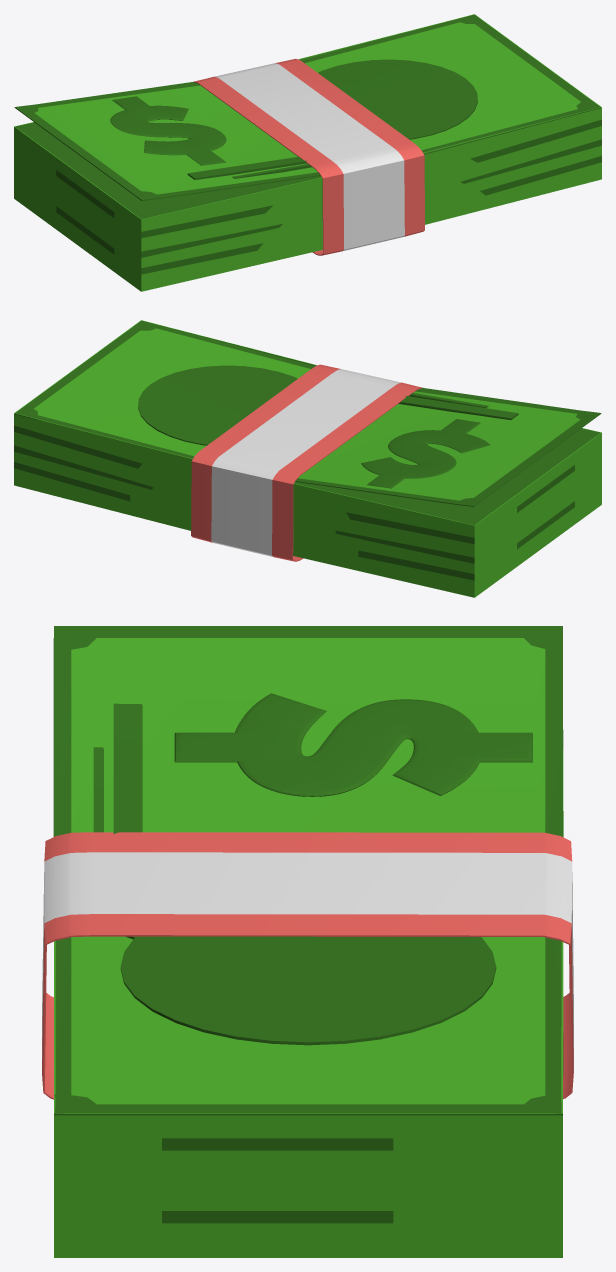
The model's file is Dollar.fbx.
3 views of the same model, one above another, from view 1: azimuth 30°, elevation 25°; view 2: azimuth 150°, elevation 25°; view 3: azimuth 270°, elevation 25° (orthographic). The views are drawn at different scales.
Parts seen in each view (by area): view 1: Dollar; view 2: Dollar; view 3: Dollar.
Boxes of the visible parts, left/top/right/bottom form: Dollar: left=14, top=14, right=601, bottom=291; Dollar: left=14, top=320, right=601, bottom=597; Dollar: left=42, top=626, right=573, bottom=1257.
Size of the model in its own units: 63.05 by 13.49 by 31.53.
